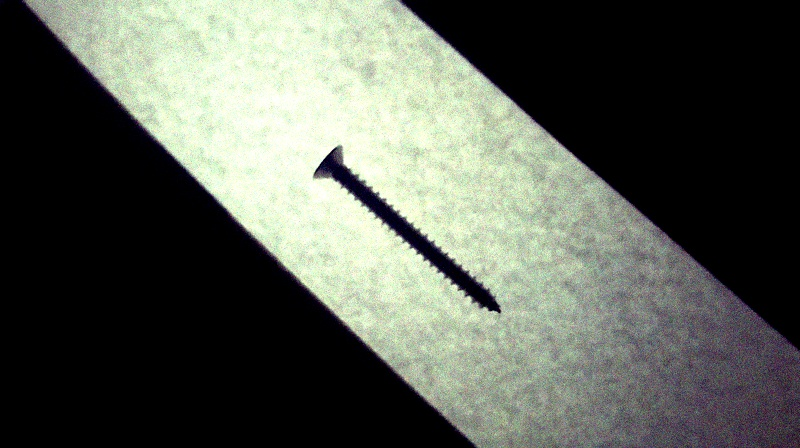S002: (307, 143, 503, 317)
